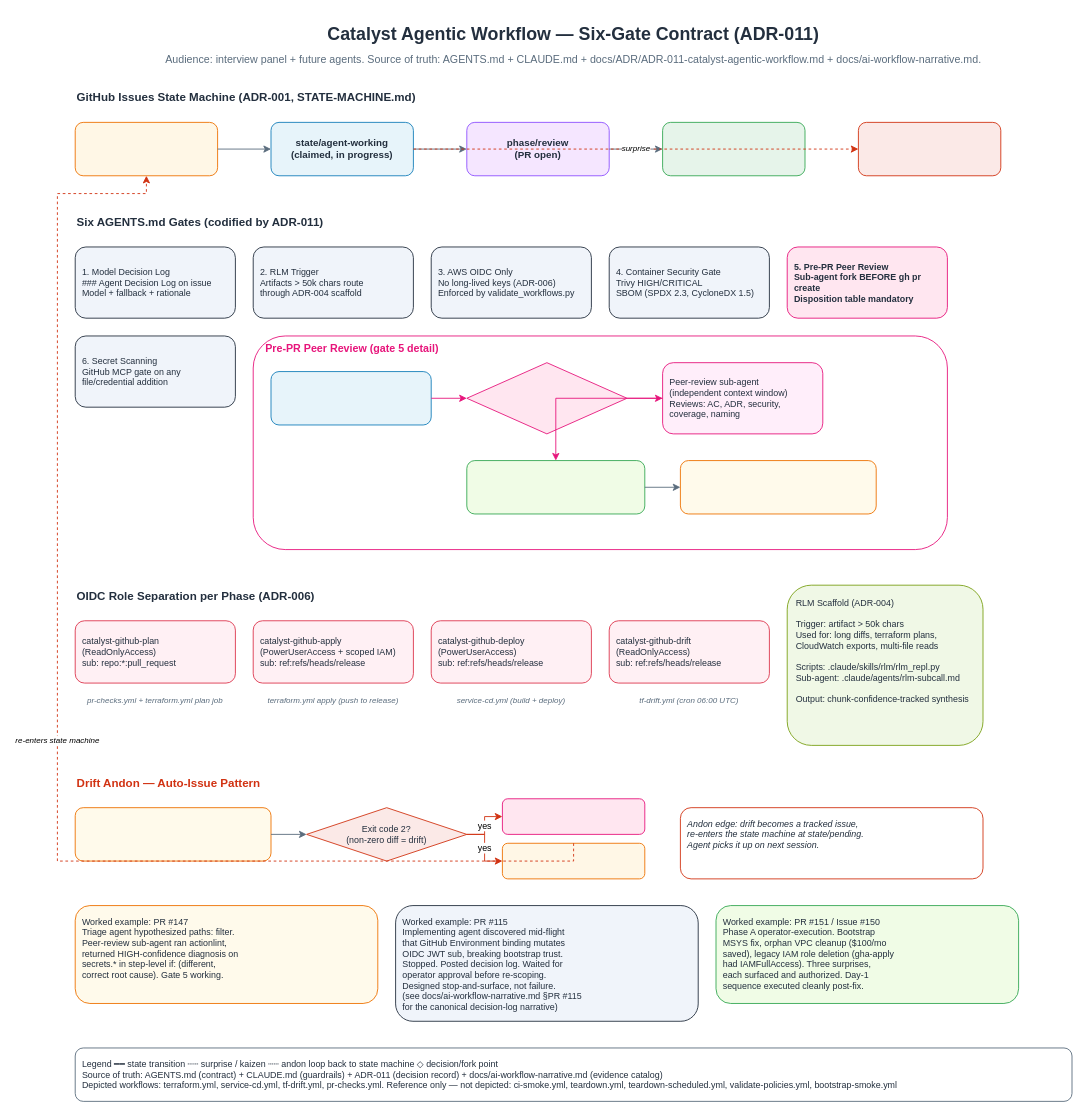
Some shapes in this 1088 by 1117 pixel diagram are drawn without their labels. The centre of each missing label's shape, as x and y in pixels:
"Agent.spawn(subagent_type= general-purpose, prompt=peer-review-prompt)" goes at (x=546, y=398).
"Disposition table on PR body ACCEPT items resolved REJECT items documented" goes at (x=778, y=487).
"gh issue create state/pending + type/kaizen" goes at (x=573, y=860).
"Implementing agent (work complete, pre-PR)" goes at (x=350, y=398).
"SNS publish DRIFT_SNS_TOPIC_ARN" goes at (x=573, y=816).
"state/blocked-on-human (agent refused)" goes at (x=929, y=148).
"state/done (merged)" goes at (x=733, y=148).
"state/pending (created, unclaimed)" goes at (x=146, y=148).
"tf-drift.yml runs daily 06:00 UTC terraform plan -detailed-exitcode" goes at (x=172, y=834).
"Verdict + suggestions APPROVE / APPROVE_WITH_NITS / BLOCK" goes at (x=555, y=487).
